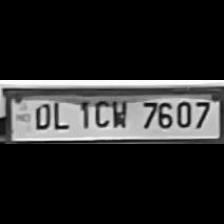0: (171, 98, 191, 128)
1: (72, 96, 92, 130)
6: (154, 99, 172, 129)
7: (136, 98, 158, 130), (191, 98, 211, 130)
C: (90, 96, 110, 130)
D: (30, 100, 52, 130)
L: (50, 98, 72, 130)
W: (107, 96, 131, 130)
